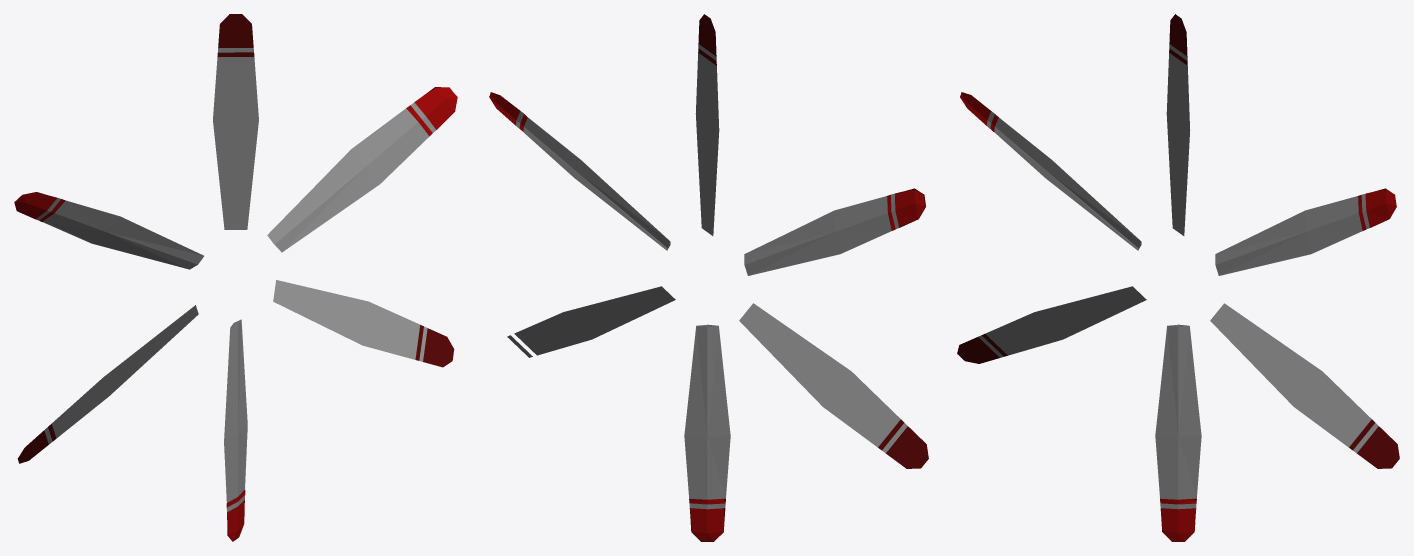
Rendered from Prop_SC01.obj.
3 renders of one model, left to right at view 1: azimuth 30°, elevation 25°; view 2: azimuth 150°, elevation 25°; view 3: azimuth 330°, elevation 25°, orthographic.
Visible parts, largest first — view 1: ShapeIndexedFaceSet.039_ShapeIndexedFaceSet.040, ShapeIndexedFaceSet.035_ShapeIndexedFaceSet.036, ShapeIndexedFaceSet.040_ShapeIndexedFaceSet.041, ShapeIndexedFaceSet.036_ShapeIndexedFaceSet.037, ShapeIndexedFaceSet.037_ShapeIndexedFaceSet.038; view 2: ShapeIndexedFaceSet.039_ShapeIndexedFaceSet.040, ShapeIndexedFaceSet.035_ShapeIndexedFaceSet.036, ShapeIndexedFaceSet.036_ShapeIndexedFaceSet.037, ShapeIndexedFaceSet.040_ShapeIndexedFaceSet.041; view 3: ShapeIndexedFaceSet.039_ShapeIndexedFaceSet.040, ShapeIndexedFaceSet.035_ShapeIndexedFaceSet.036, ShapeIndexedFaceSet.036_ShapeIndexedFaceSet.037, ShapeIndexedFaceSet.040_ShapeIndexedFaceSet.041, ShapeIndexedFaceSet.037_ShapeIndexedFaceSet.038.
Boxes of the visible parts, x1,y1,x2,y2 form: ShapeIndexedFaceSet.039_ShapeIndexedFaceSet.040: [44, 48, 427, 444]; ShapeIndexedFaceSet.035_ShapeIndexedFaceSet.036: [36, 102, 435, 512]; ShapeIndexedFaceSet.040_ShapeIndexedFaceSet.041: [17, 14, 454, 463]; ShapeIndexedFaceSet.036_ShapeIndexedFaceSet.037: [14, 87, 457, 541]; ShapeIndexedFaceSet.037_ShapeIndexedFaceSet.038: [43, 108, 406, 501]; ShapeIndexedFaceSet.039_ShapeIndexedFaceSet.040: [507, 44, 907, 453]; ShapeIndexedFaceSet.035_ShapeIndexedFaceSet.036: [516, 111, 898, 509]; ShapeIndexedFaceSet.036_ShapeIndexedFaceSet.037: [489, 92, 925, 541]; ShapeIndexedFaceSet.040_ShapeIndexedFaceSet.041: [698, 14, 928, 468]; ShapeIndexedFaceSet.039_ShapeIndexedFaceSet.040: [978, 44, 1378, 453]; ShapeIndexedFaceSet.035_ShapeIndexedFaceSet.036: [986, 111, 1369, 509]; ShapeIndexedFaceSet.036_ShapeIndexedFaceSet.037: [960, 92, 1396, 541]; ShapeIndexedFaceSet.040_ShapeIndexedFaceSet.041: [957, 14, 1399, 468]; ShapeIndexedFaceSet.037_ShapeIndexedFaceSet.038: [994, 132, 1357, 498].
Bounding box in the file's own units: 13.54 × 15.45 × 0.605.
